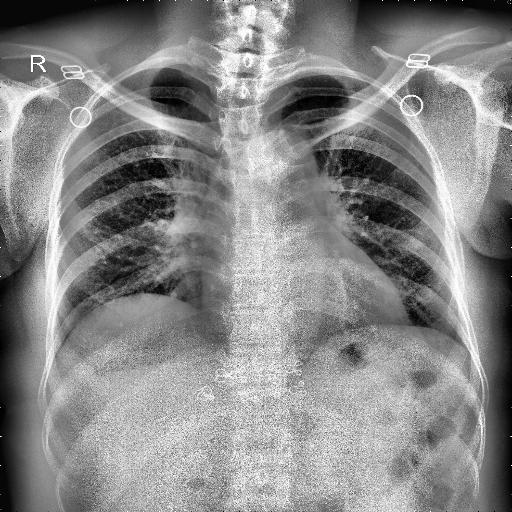0- Aortic enlargement: (250, 127, 324, 215), (247, 129, 316, 195), (252, 131, 318, 178)
